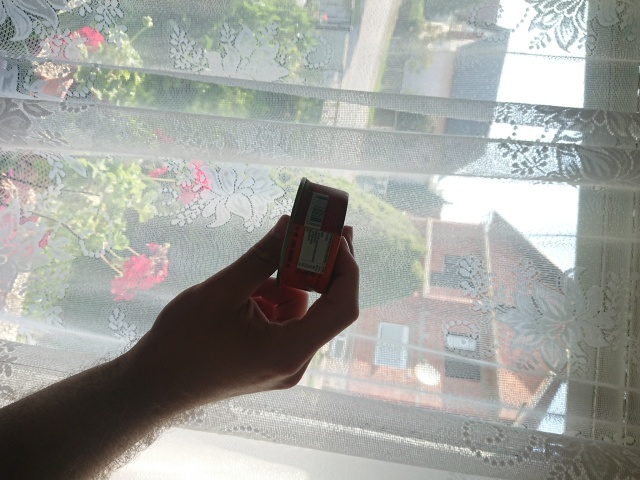Gavrilovic Pork Liver Pate 100g: (272, 175, 352, 296)
